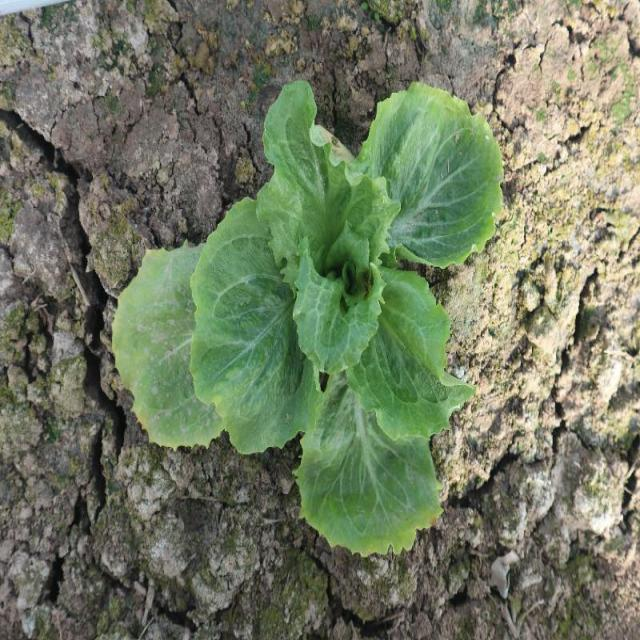crop: (112, 75, 505, 560)
